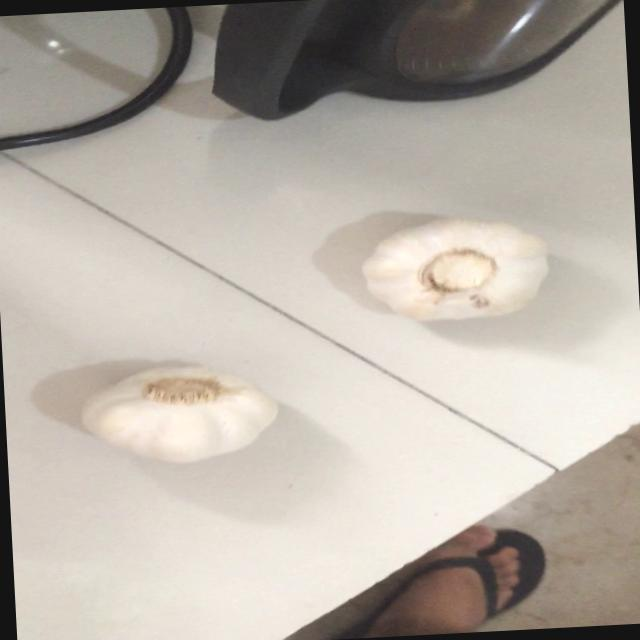bawang: (67, 354, 280, 472), (356, 210, 556, 330)
